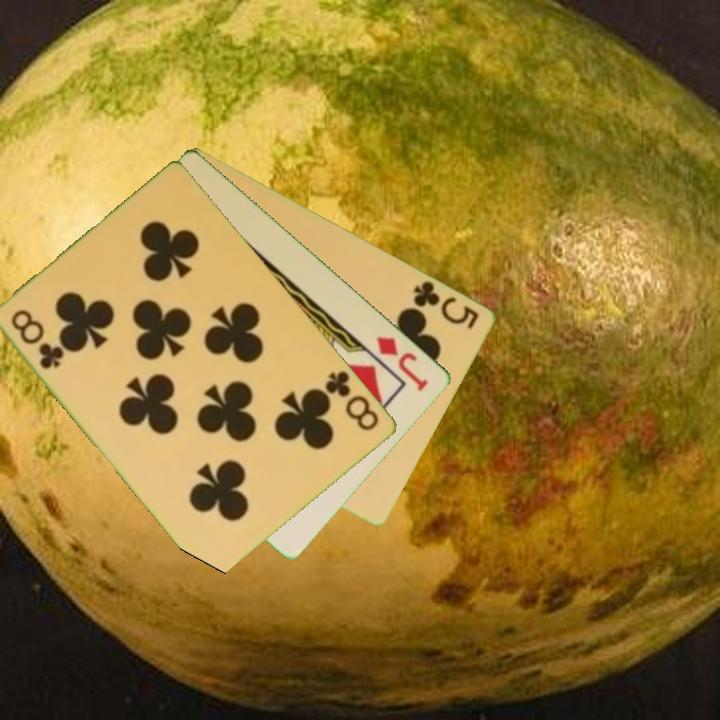5c: (410, 276, 483, 332)
8c: (322, 367, 383, 434), (8, 305, 68, 373)
Jd: (373, 332, 432, 395)
